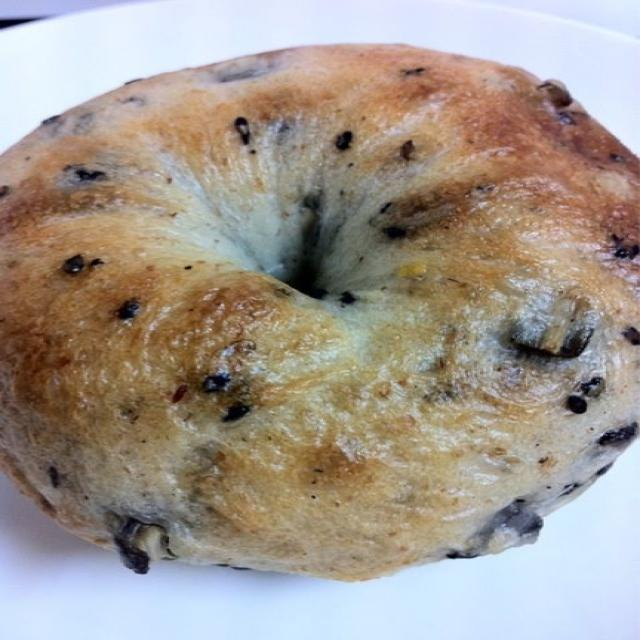面包点心: (6, 40, 627, 586)
